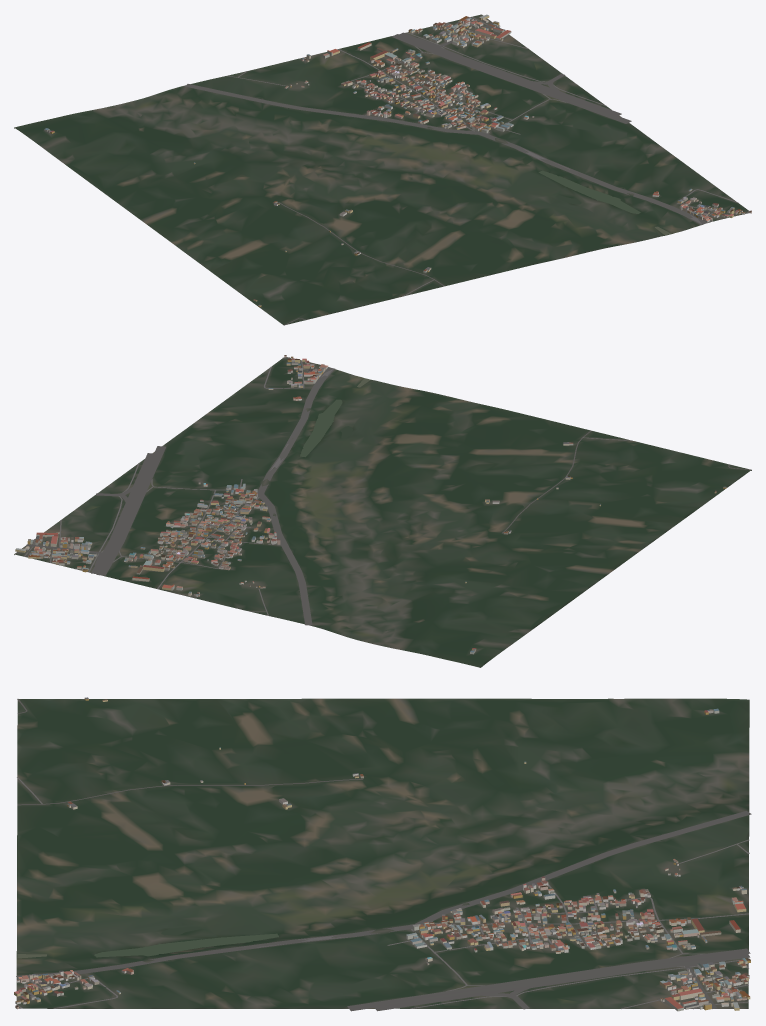
3 views of the same model, one above another, from view 1: azimuth 30°, elevation 25°; view 2: azimuth 150°, elevation 25°; view 3: azimuth 270°, elevation 25° (orthographic). The views are drawn at different scales.
Visible parts, largest first — view 1: ground, buildings, roads, water; view 2: ground, buildings, roads, water; view 3: ground, buildings, roads, water.
Boxes of the visible parts, x1,y1,x2,y2 form: ground: (14, 14, 751, 325); buildings: (44, 14, 751, 307); roads: (185, 16, 749, 325); water: (538, 170, 670, 235); ground: (14, 357, 751, 667); buildings: (15, 355, 726, 654); roads: (24, 357, 751, 625); water: (300, 378, 370, 457); ground: (16, 698, 749, 1008); buildings: (14, 697, 750, 1011); roads: (16, 699, 751, 1011); water: (17, 927, 278, 958).
Size of the model in its own units: 1411 by 24.65 by 1413.
